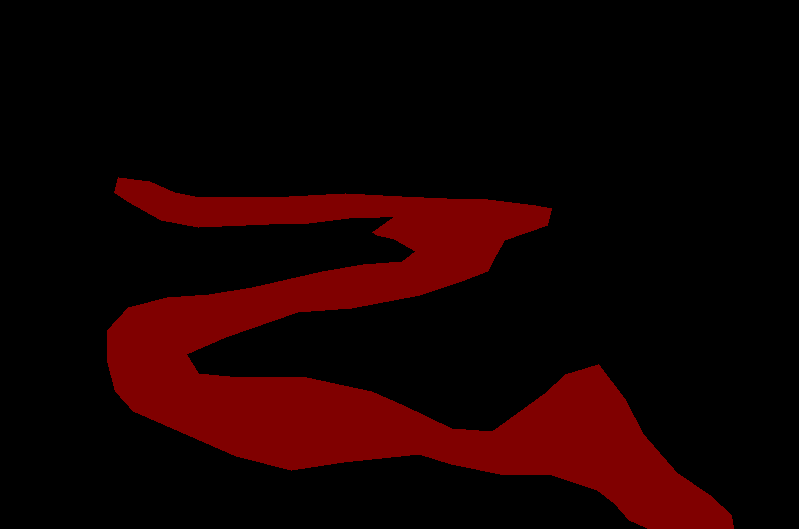fire: (107, 177, 733, 528)
